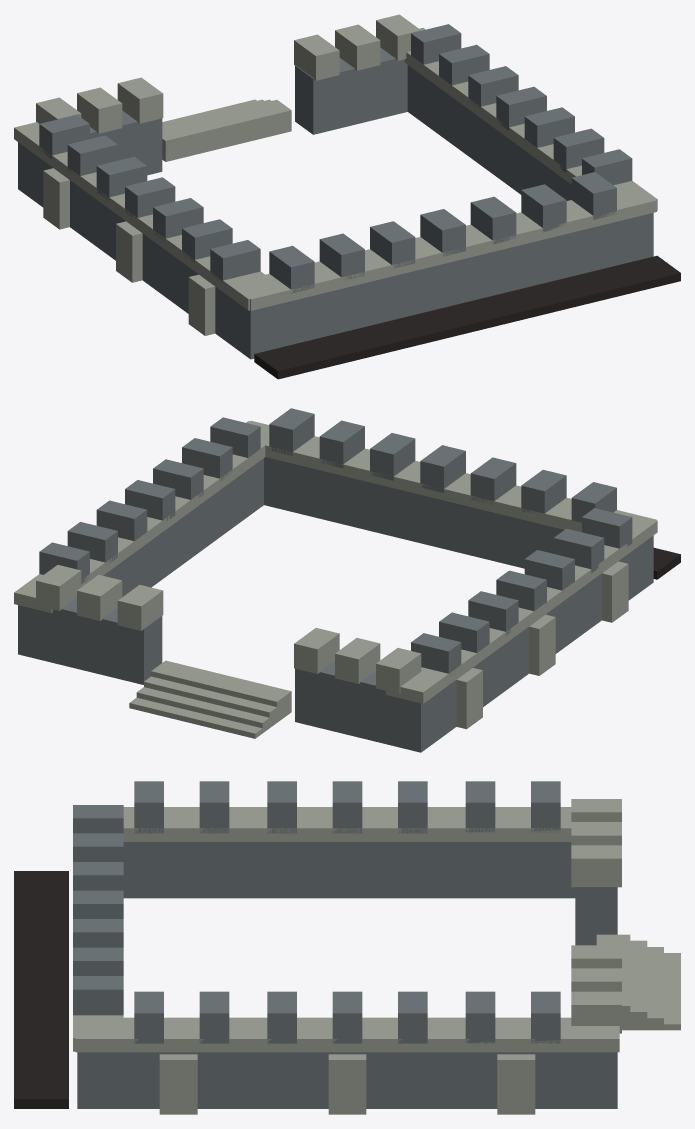
Rendered from CityWall_1.fbx.
3 views of the same model, one above another, from view 1: azimuth 30°, elevation 25°; view 2: azimuth 150°, elevation 25°; view 3: azimuth 270°, elevation 25° (orthographic). The views are drawn at different scales.
Visible parts, largest first — view 1: CityWall_1; view 2: CityWall_1; view 3: CityWall_1.
Part boxes in pixels (x1,y1,x2,y2): CityWall_1: [14, 14, 680, 379]; CityWall_1: [14, 408, 680, 752]; CityWall_1: [14, 781, 680, 1114].
Bounding box in the file's own units: 2.69 × 0.51 × 3.16.
Materials: 1 (1 with a texture image).
